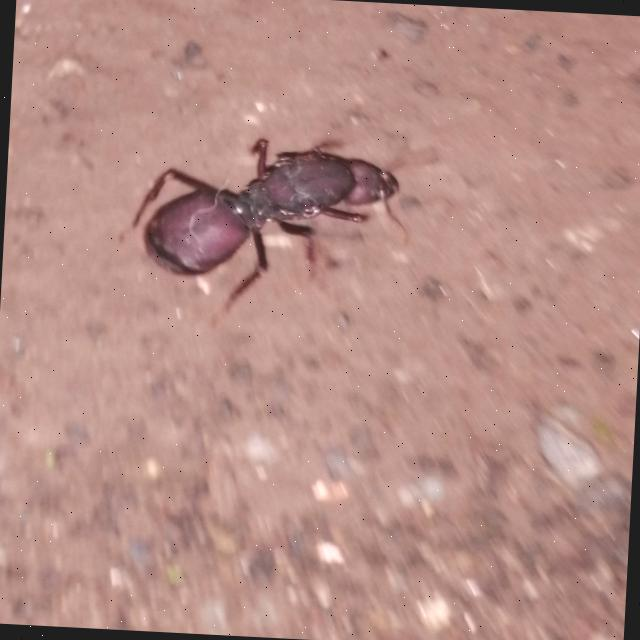Alive-Female-Dealate: (114, 128, 439, 340)
